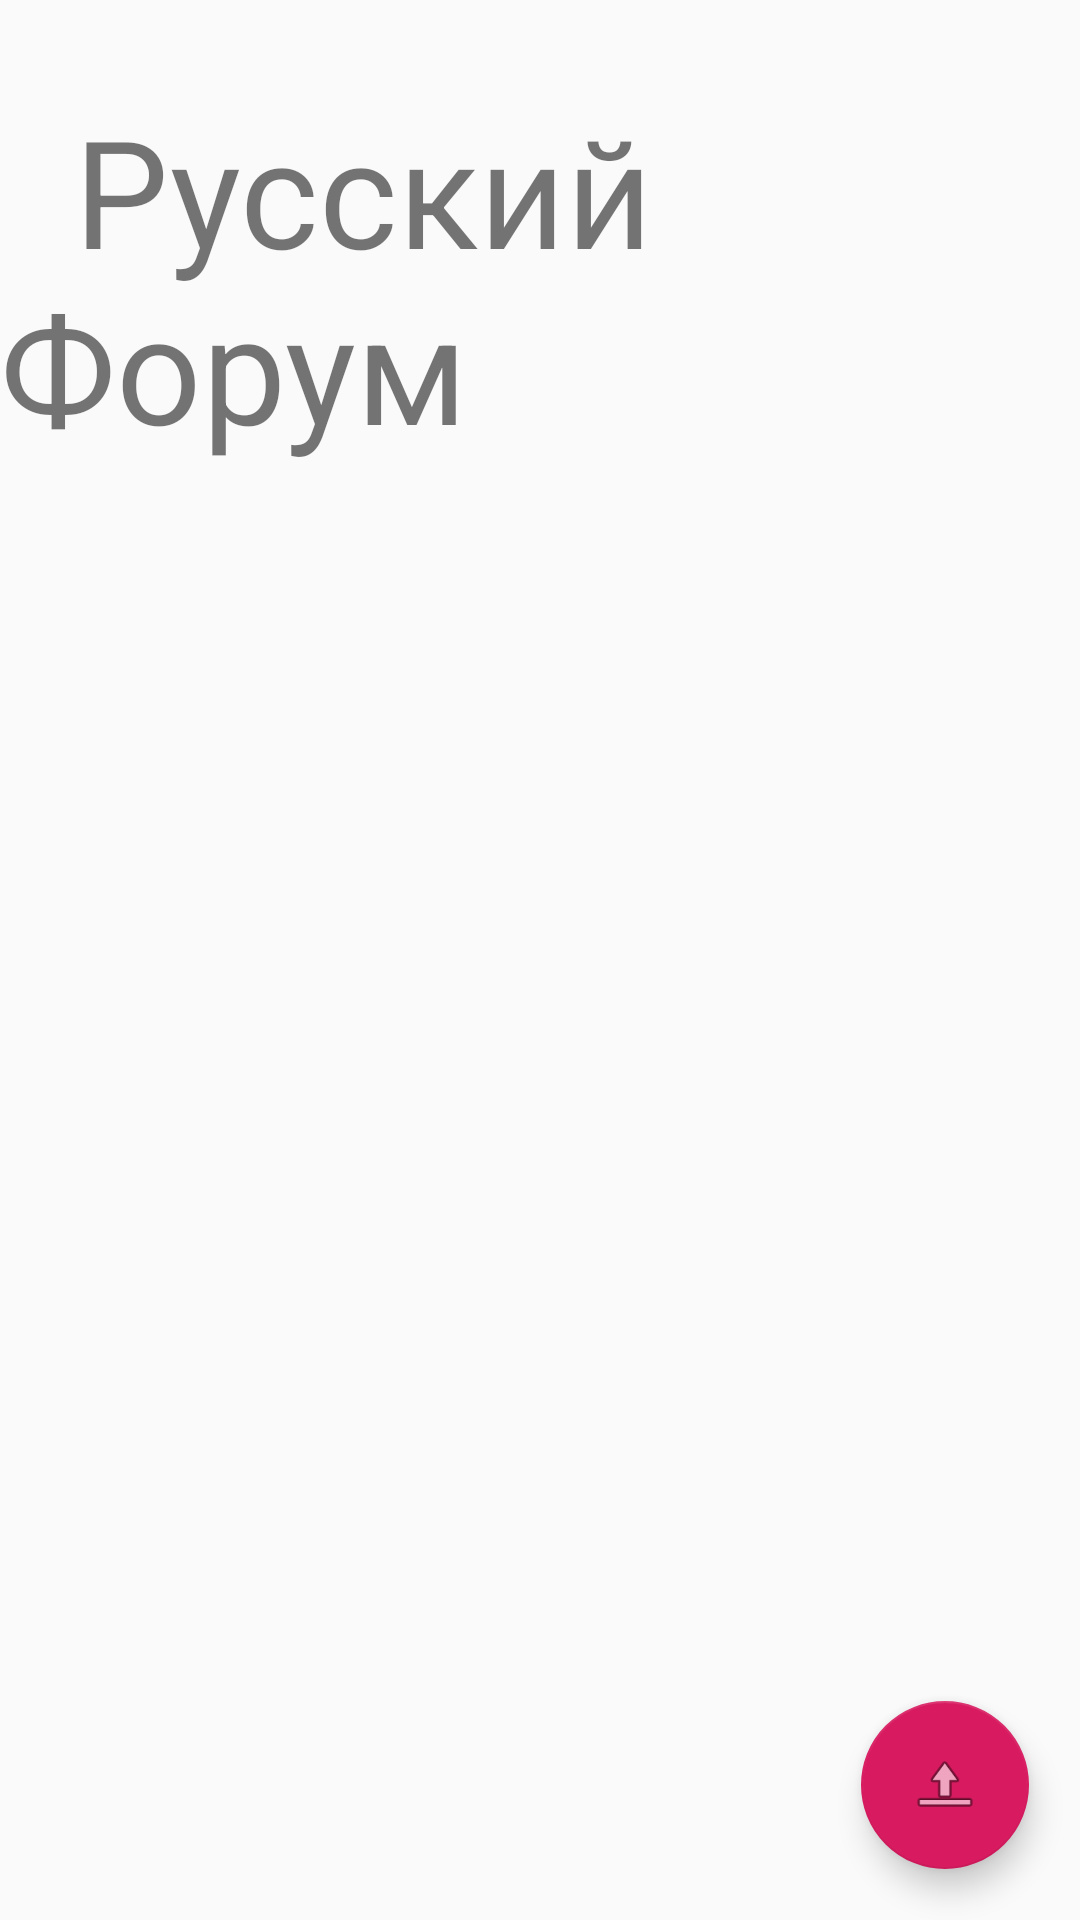

Point at icon controls on the screen. Image size 1080 × 1920, points as [x,y].
upload: [945,1785]
